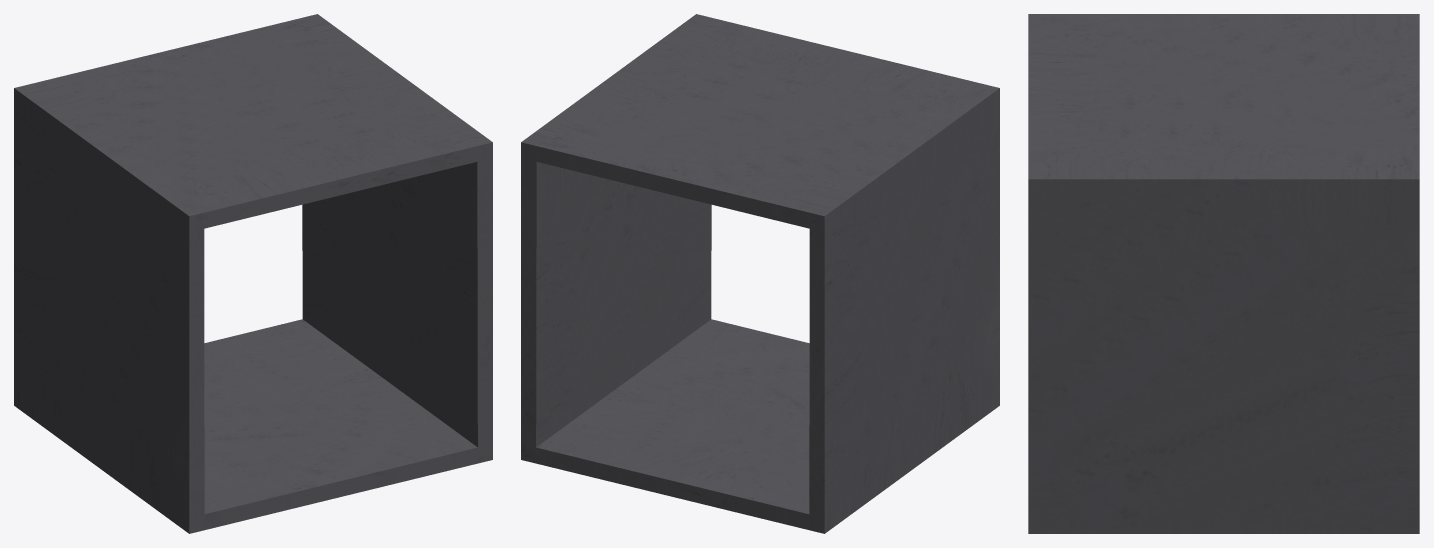
The model's file is twoRoom.fbx.
3 renders of one model, left to right at view 1: azimuth 30°, elevation 25°; view 2: azimuth 150°, elevation 25°; view 3: azimuth 270°, elevation 25°, orthographic. The views are drawn at different scales.
Parts seen in each view (by area): view 1: twoRoom:RoadKillOut; view 2: twoRoom:RoadKillOut; view 3: twoRoom:RoadKillOut.
Boxes of the visible parts, x1=… form: twoRoom:RoadKillOut: x1=14, y1=14, x2=492, y2=533; twoRoom:RoadKillOut: x1=521, y1=14, x2=999, y2=533; twoRoom:RoadKillOut: x1=1028, y1=14, x2=1419, y2=533.
Bounding box in the file's own units: 20 × 20 × 20.
Materials: 1 (1 with a texture image).
